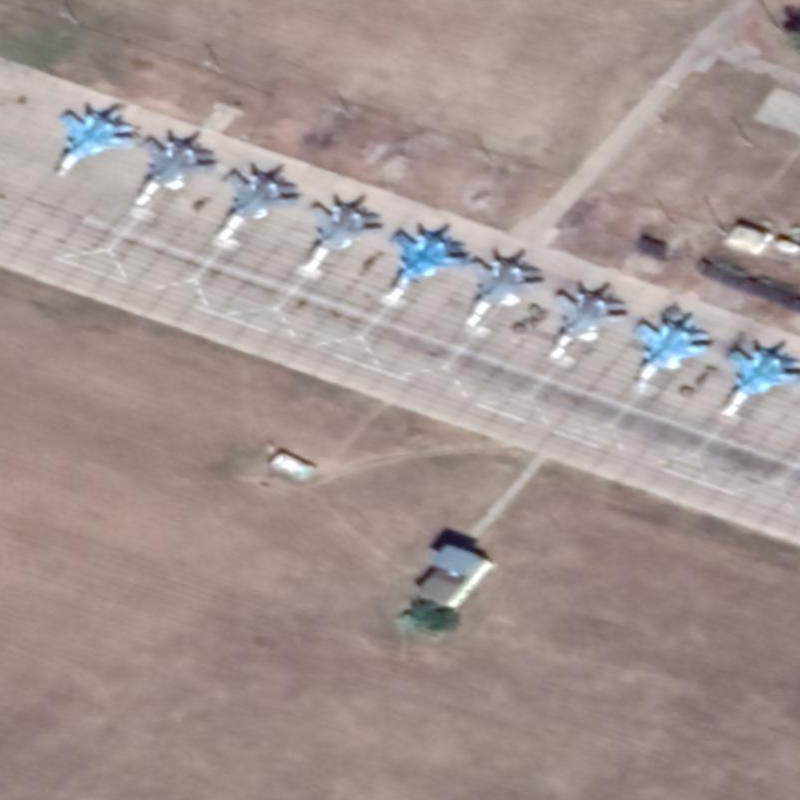A19: (211, 166, 302, 244), (383, 226, 476, 301), (132, 133, 223, 209), (633, 306, 714, 389), (300, 197, 387, 274), (718, 340, 800, 418), (53, 106, 139, 179), (466, 252, 547, 328), (550, 286, 631, 360)
